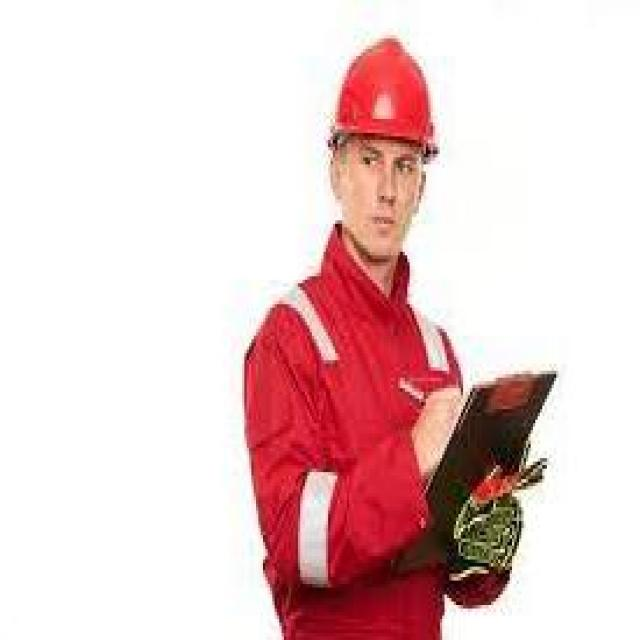Reflective-Jacket: (233, 255, 491, 619)
Safety-Helmet: (319, 35, 444, 168)
